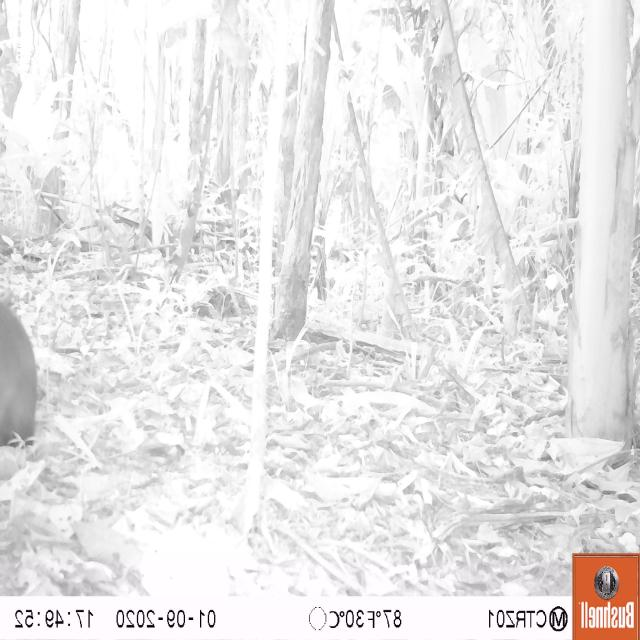Collared Peccary: (3, 276, 48, 467)
